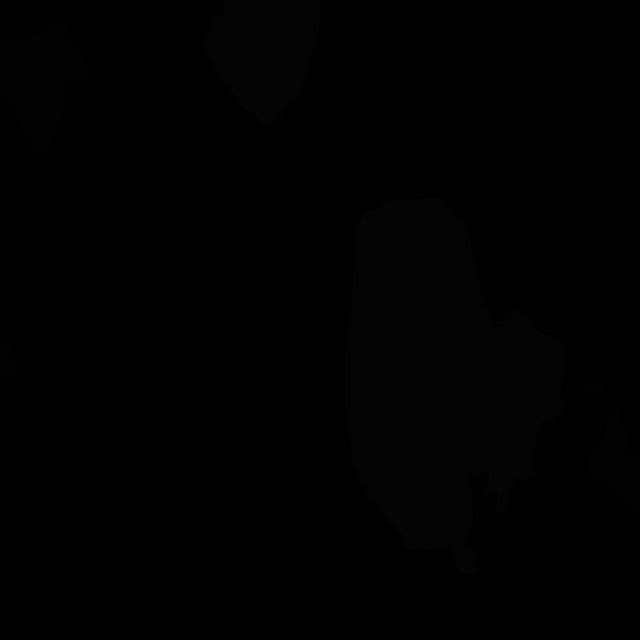cardboard: (0, 19, 90, 156), (584, 406, 640, 520), (564, 378, 606, 404), (0, 338, 18, 382)
soft_plastic: (345, 198, 512, 574), (455, 308, 566, 486), (203, 0, 321, 125), (483, 471, 516, 513)
